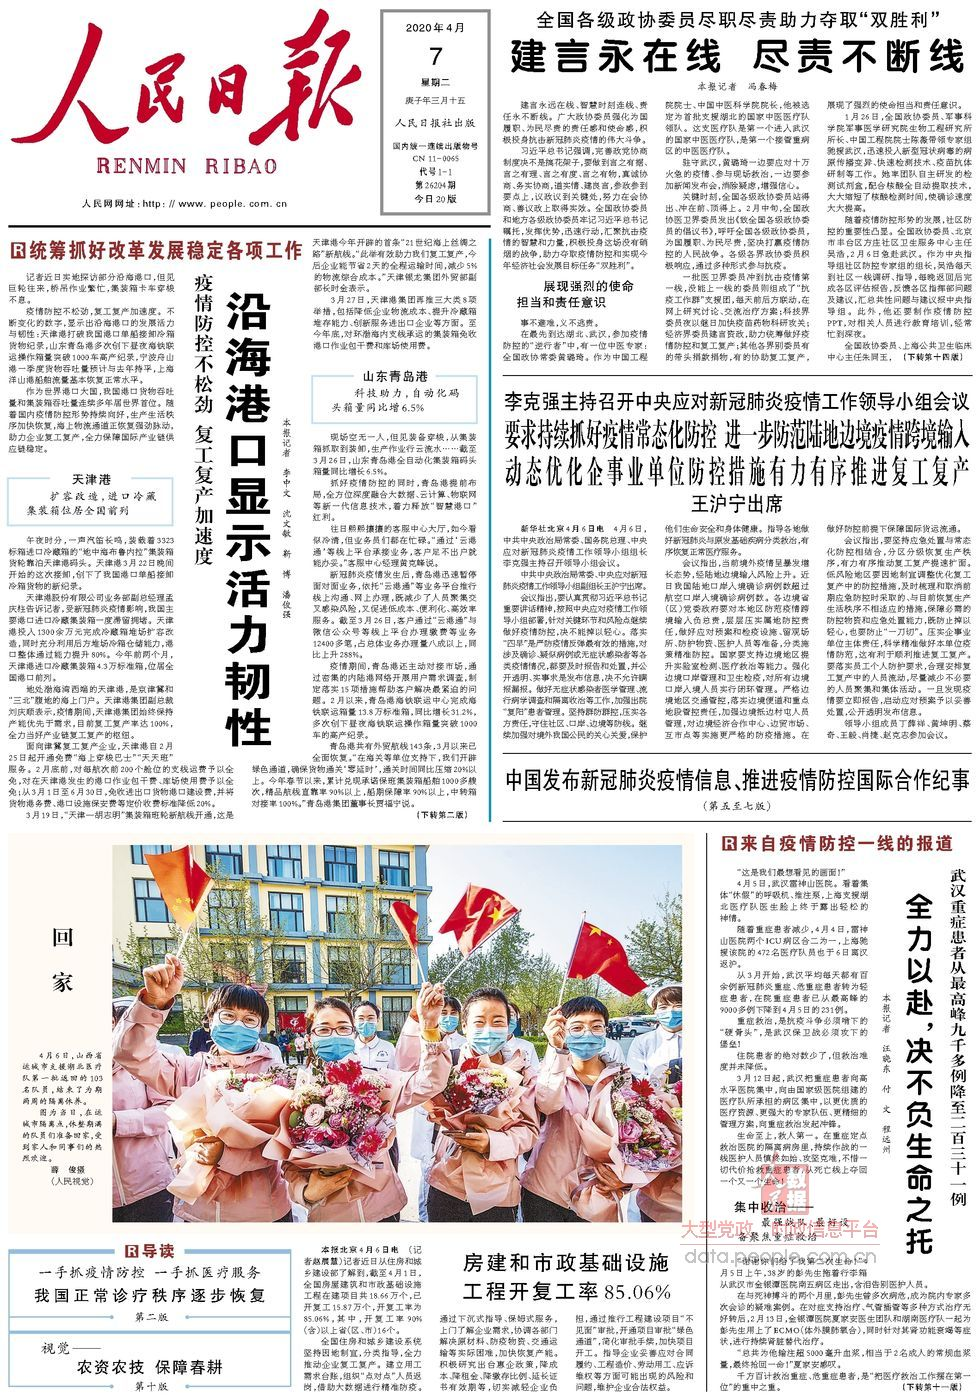pic: (106, 841, 690, 1226)
